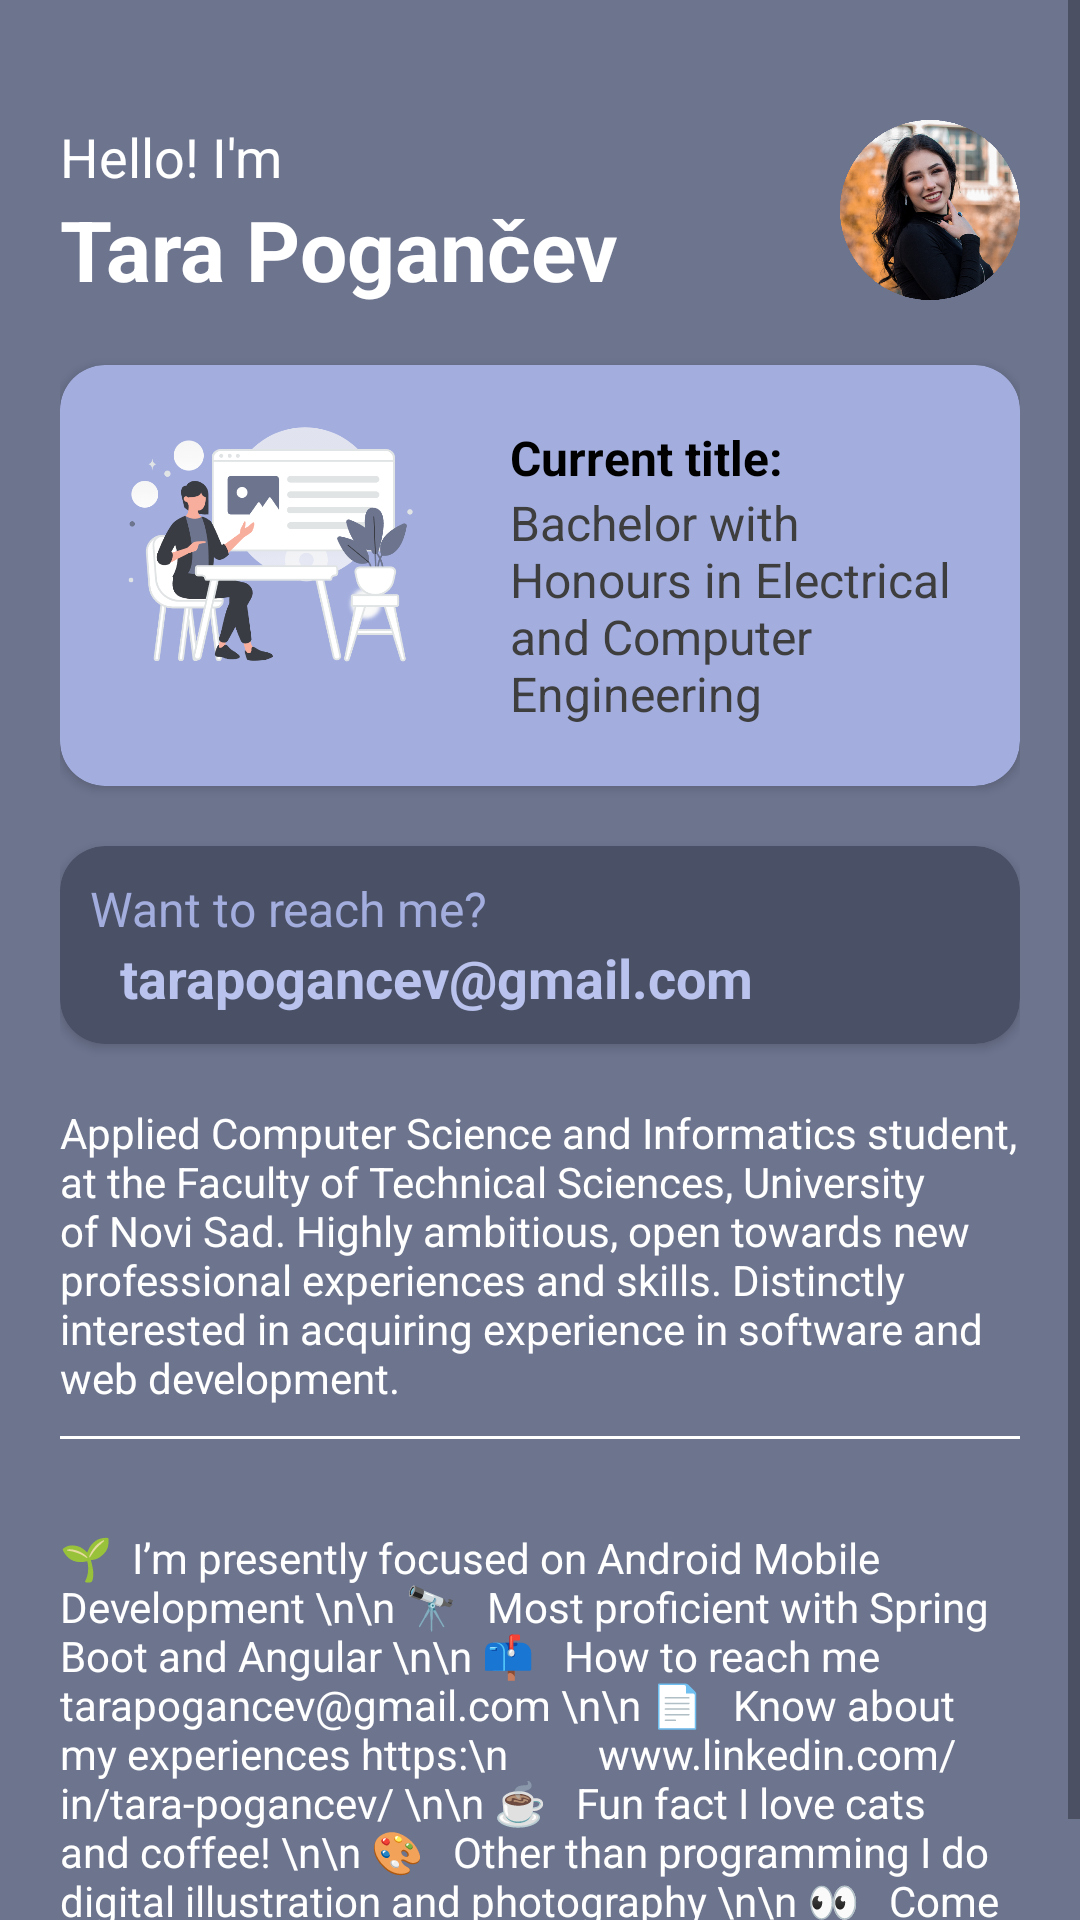

Screen size 1080×1920. Icon name, then its box in pixels as {"left": x1, "top": y1, "right": x2, "bottom": y2}:
me illustration: {"left": 129, "top": 427, "right": 413, "bottom": 661}
